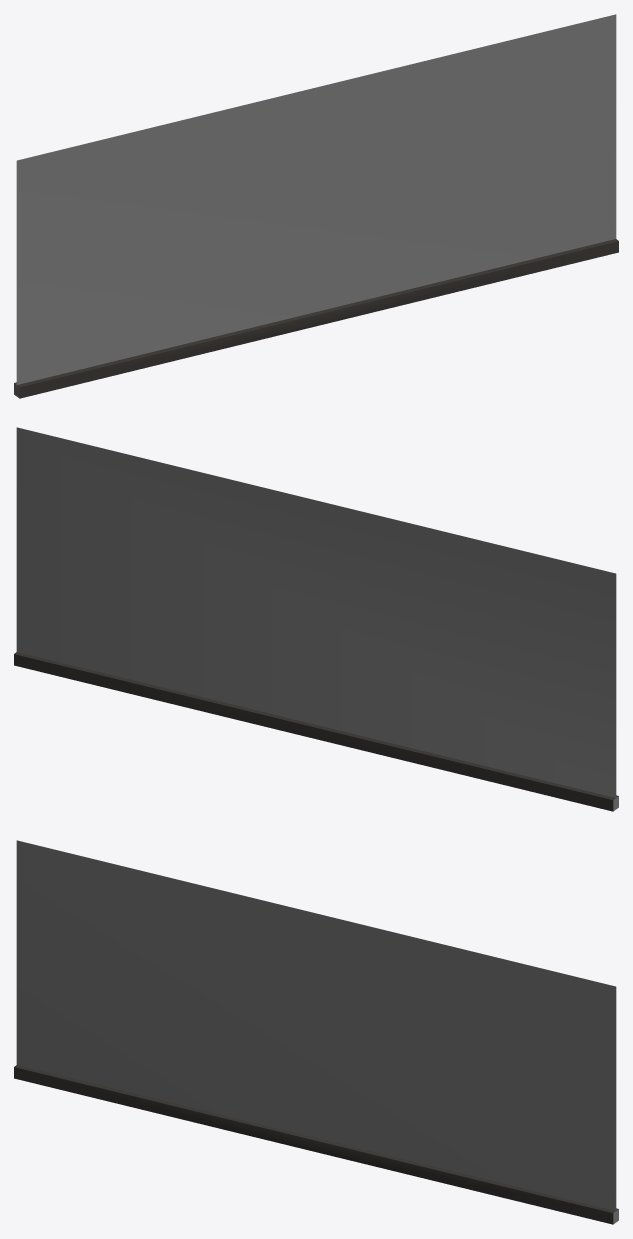
File: 3x3_Screen.glb
The picture shows the model from 3 angles, top to bottom: view 1: azimuth 30°, elevation 25°; view 2: azimuth 150°, elevation 25°; view 3: azimuth 330°, elevation 25°; orthographic projection.
Visible parts, largest first — view 1: Pergolas_3x3_Screen; view 2: Pergolas_3x3_Screen; view 3: Pergolas_3x3_Screen.
Part boxes in pixels (left/top/right/bottom): Pergolas_3x3_Screen: left=14, top=14, right=618, bottom=398; Pergolas_3x3_Screen: left=14, top=427, right=618, bottom=811; Pergolas_3x3_Screen: left=14, top=840, right=618, bottom=1224.
Size of the model in its own units: 2.92 by 1.1 by 0.0492.
Materials: 2 (1 with a texture image).
